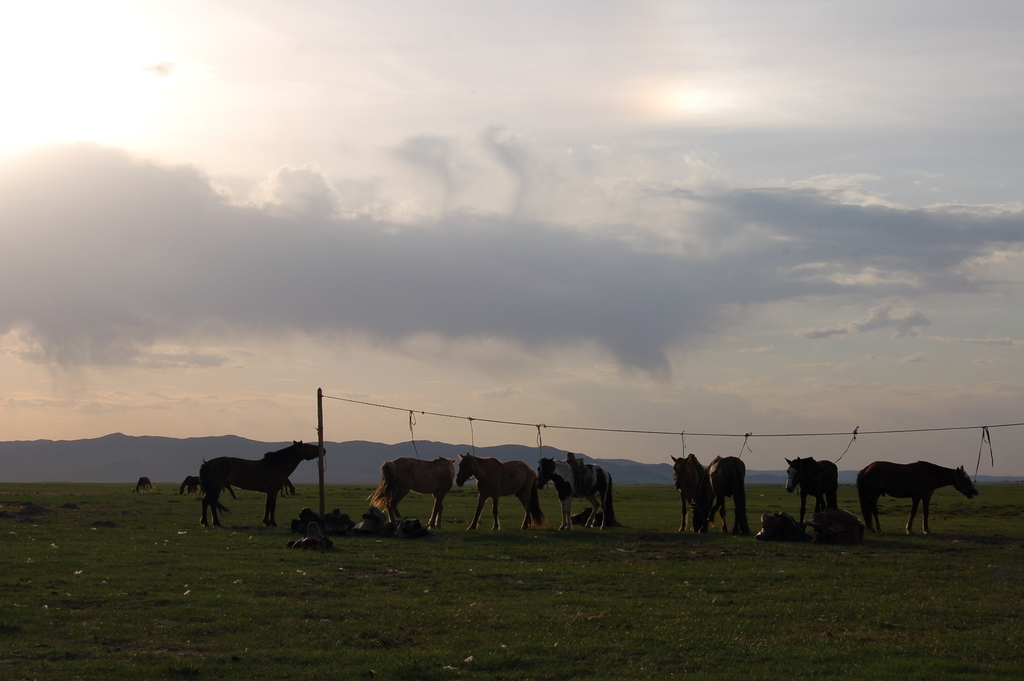horse: (198, 439, 325, 527), (455, 450, 548, 531), (132, 472, 154, 492)
